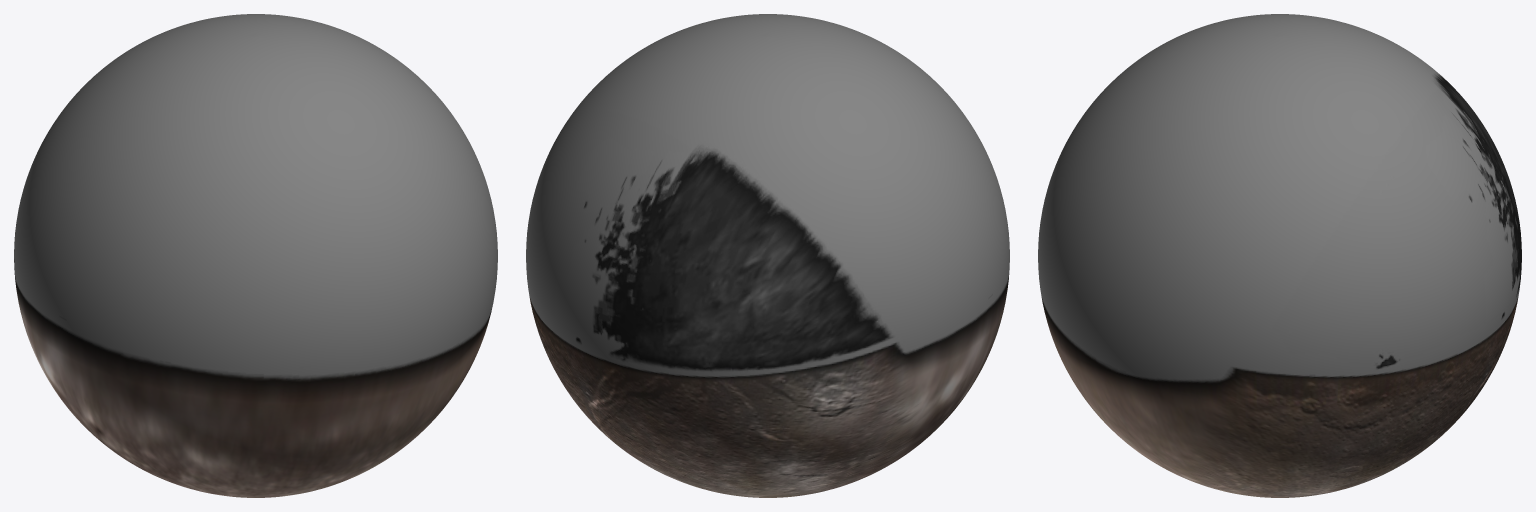
File: Titania.glb
The picture shows the model from 3 angles, left to right: view 1: azimuth 30°, elevation 25°; view 2: azimuth 150°, elevation 25°; view 3: azimuth 270°, elevation 25°; orthographic projection.
Parts seen in each view (by area): view 1: cylindrically_mapped_sphere.001; view 2: cylindrically_mapped_sphere.001; view 3: cylindrically_mapped_sphere.001.
Boxes of the visible parts, x1=… form: cylindrically_mapped_sphere.001: x1=14, y1=14, x2=497, y2=497; cylindrically_mapped_sphere.001: x1=526, y1=14, x2=1009, y2=497; cylindrically_mapped_sphere.001: x1=1038, y1=14, x2=1521, y2=497.
Bounding box in the file's own units: 1000 × 1000 × 1000.
1 material, 1 textured.
